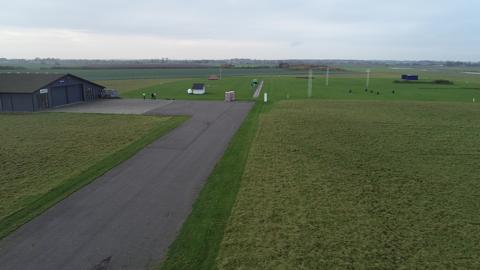RockwoolPallet: (229, 91, 236, 101)
